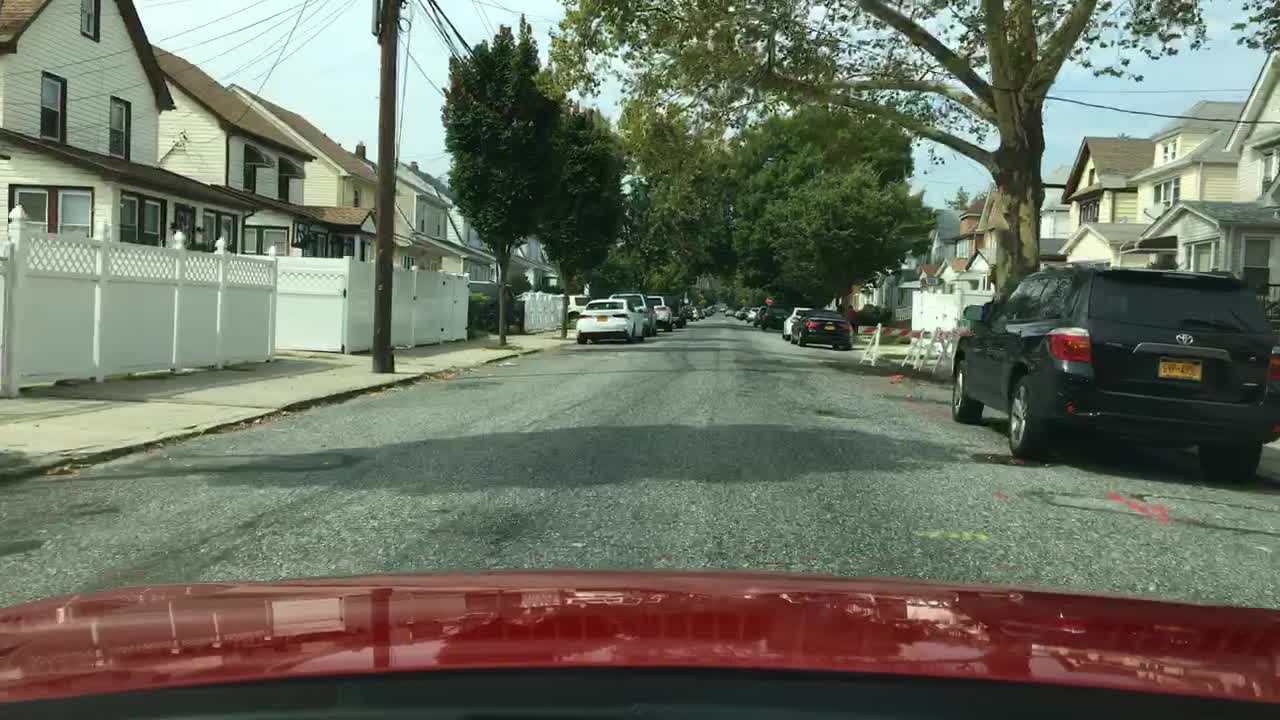car: (947, 260, 1277, 482), (573, 297, 647, 341), (464, 278, 516, 335), (788, 308, 853, 352), (608, 292, 657, 336), (780, 305, 817, 341), (643, 293, 675, 330), (755, 307, 792, 330), (566, 292, 593, 321), (661, 293, 687, 308), (746, 307, 765, 321), (737, 305, 753, 320), (683, 304, 694, 321), (694, 304, 706, 317), (725, 308, 735, 316)
